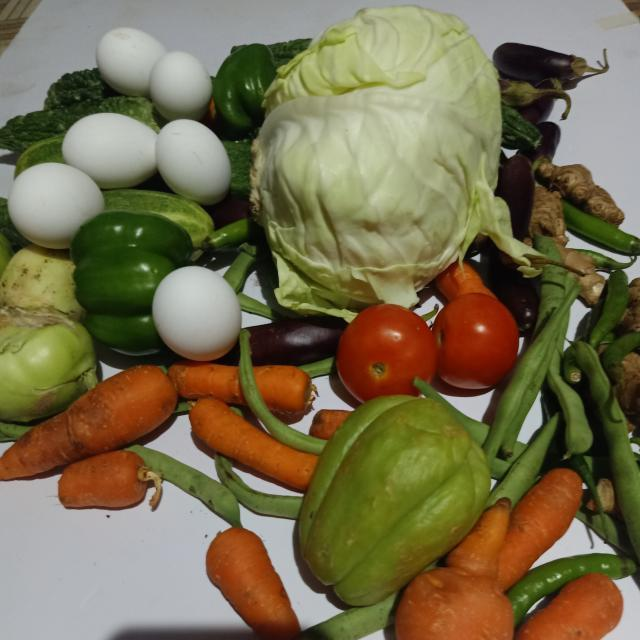Beans: (485, 283, 585, 473), (578, 346, 640, 556), (125, 443, 244, 528), (489, 414, 560, 506)
Brinjal: (496, 40, 614, 85)
Cabbage: (246, 0, 541, 323)
Capsicum: (74, 214, 192, 356)
Carrot: (1, 360, 183, 482), (394, 497, 515, 640), (187, 396, 315, 494), (499, 463, 587, 592), (200, 526, 302, 634), (508, 572, 626, 640), (55, 450, 162, 511)
Chayote: (290, 392, 492, 613)
Egg: (148, 262, 247, 366), (12, 158, 106, 252), (64, 114, 156, 185), (158, 119, 234, 203), (96, 25, 169, 94), (147, 52, 213, 120)
Ginger: (534, 159, 625, 226)
Green Chilly: (506, 553, 638, 629), (564, 201, 633, 259)
Tomato: (334, 299, 442, 397), (434, 289, 525, 394)
Turnip: (0, 245, 99, 439)
